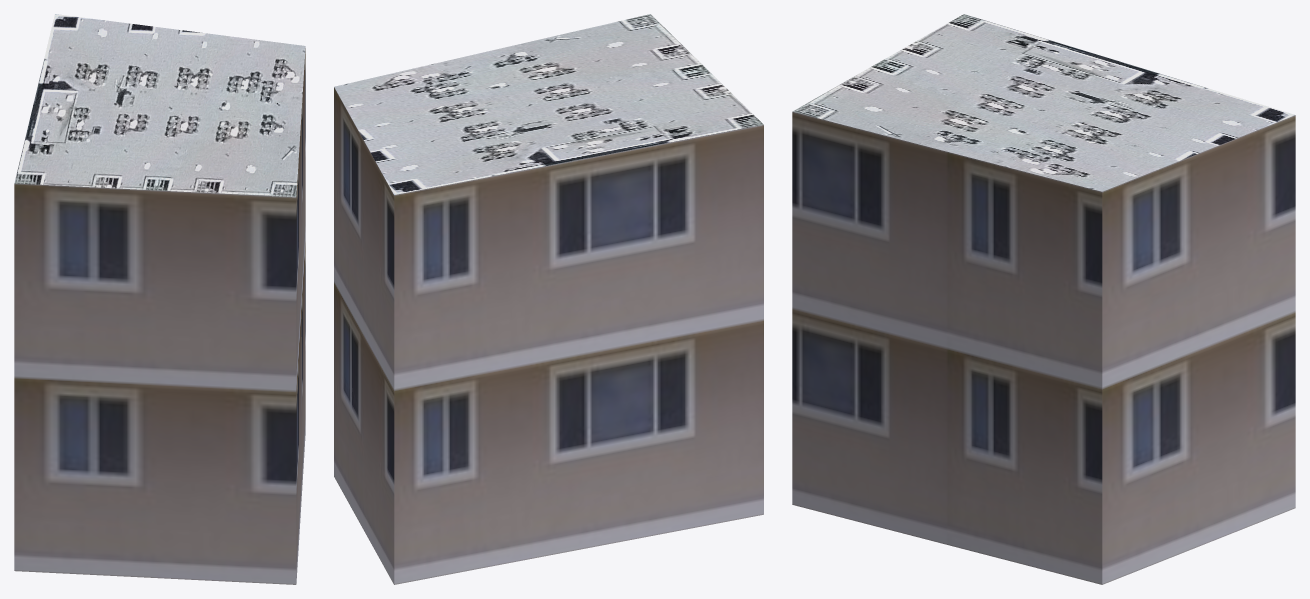
The model's file is ResTex__3503.fbx.
3 renders of one model, left to right at view 1: azimuth 30°, elevation 25°; view 2: azimuth 150°, elevation 25°; view 3: azimuth 270°, elevation 25°, orthographic.
Visible parts, largest first — view 1: CityEngineMaterial_21_m, CityEngineMaterial_8_m; view 2: CityEngineMaterial_21_m, CityEngineMaterial_8_m; view 3: CityEngineMaterial_21_m, CityEngineMaterial_8_m.
Boxes of the visible parts, x1=… form: CityEngineMaterial_21_m: x1=14, y1=48, x2=305, y2=584; CityEngineMaterial_8_m: x1=14, y1=14, x2=305, y2=197; CityEngineMaterial_21_m: x1=334, y1=87, x2=763, y2=584; CityEngineMaterial_8_m: x1=334, y1=14, x2=763, y2=194; CityEngineMaterial_21_m: x1=792, y1=111, x2=1295, y2=584; CityEngineMaterial_8_m: x1=793, y1=14, x2=1294, y2=191.
Size of the model in its own units: 5.82 by 6 by 6.96.
Materials: 2 (2 with a texture image).
